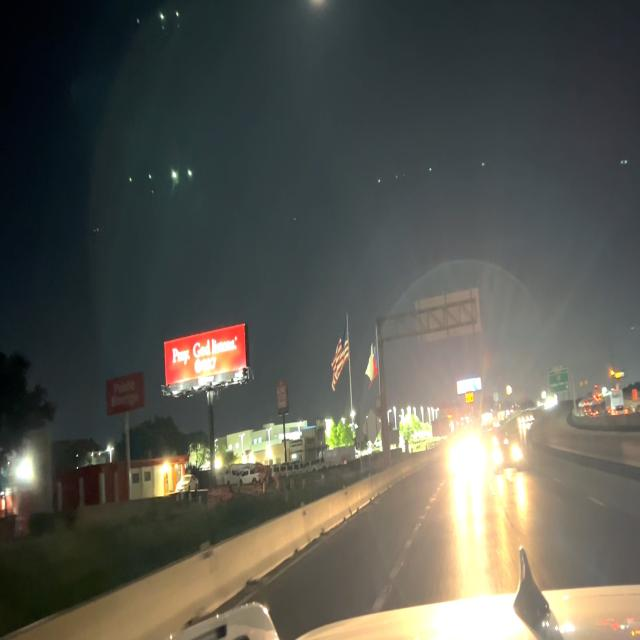back-of-sign: (412, 284, 482, 349), (362, 407, 381, 447)
